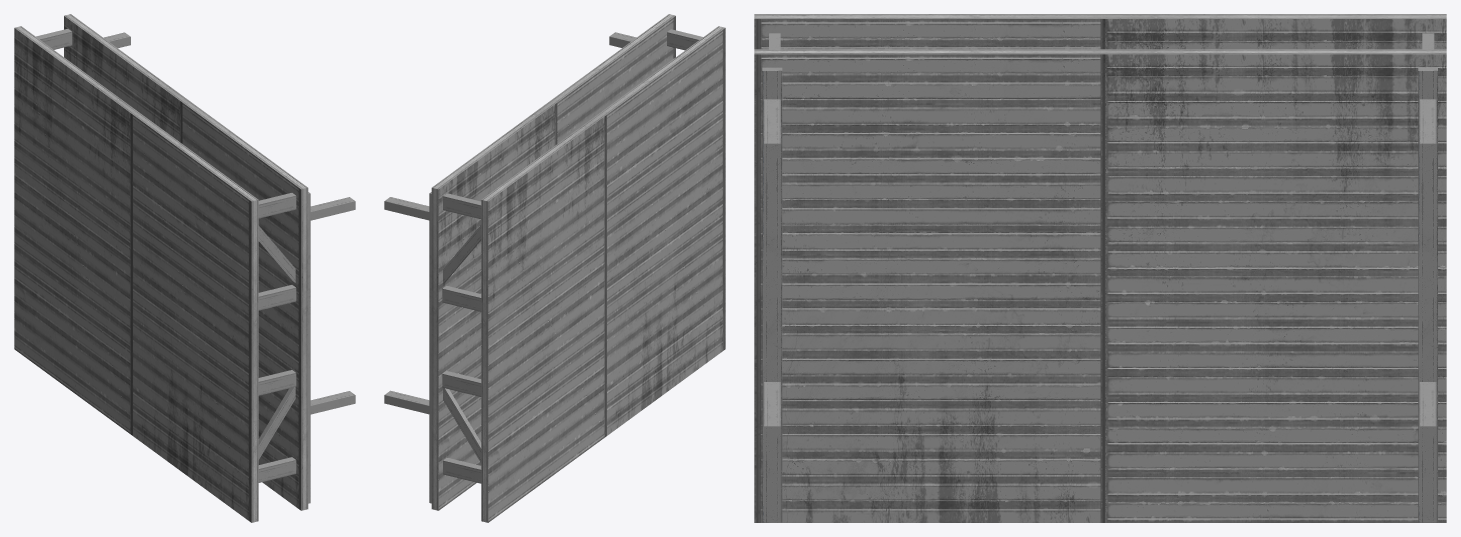
File: CP_Advertising_Frame_01.fbx
3 views of the same model, side by side, from view 1: azimuth 30°, elevation 25°; view 2: azimuth 150°, elevation 25°; view 3: azimuth 270°, elevation 25° (orthographic). The views are drawn at different scales.
Parts seen in each view (by area): view 1: CP_Advertising_Frame_01; view 2: CP_Advertising_Frame_01; view 3: CP_Advertising_Frame_01.
Part boxes in pixels (x1,y1,x2,y2): CP_Advertising_Frame_01: (14, 14, 355, 522); CP_Advertising_Frame_01: (384, 14, 725, 522); CP_Advertising_Frame_01: (754, 14, 1446, 522).
Bounding box in the file's own units: 137 × 391 × 523.
